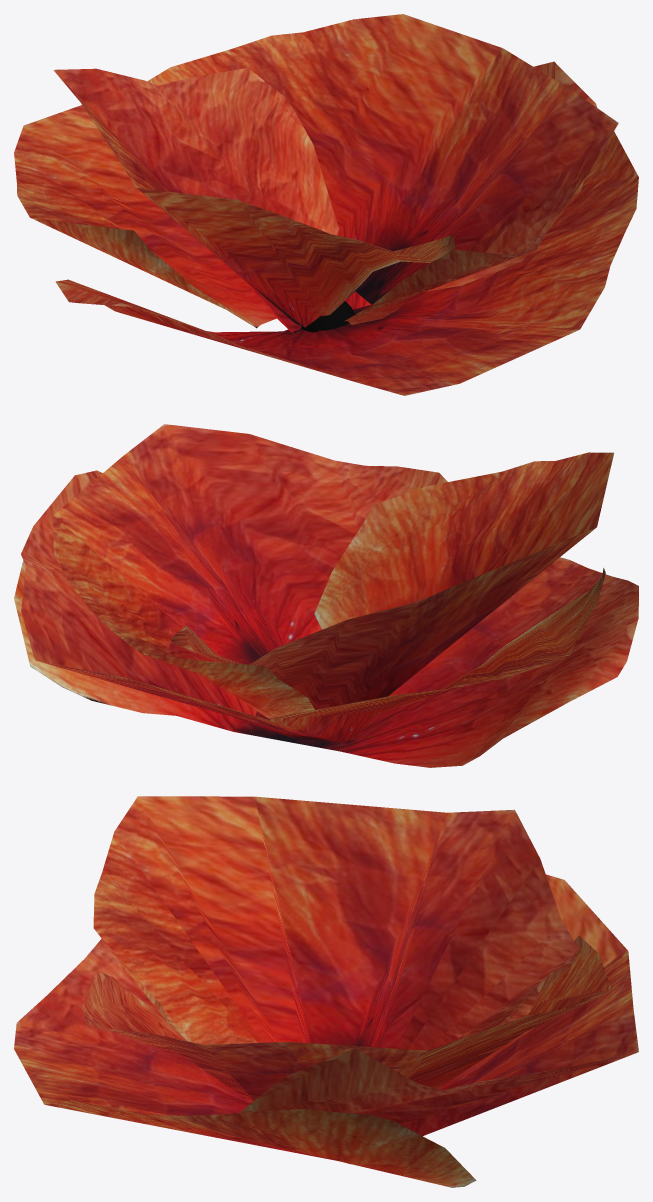
The picture shows the model from 3 angles, top to bottom: view 1: azimuth 30°, elevation 25°; view 2: azimuth 150°, elevation 25°; view 3: azimuth 270°, elevation 25°; orthographic projection.
Parts seen in each view (by area): view 1: Petal.002_3, Petal.003_4, Petal.001_2, Petal_0, Pistil_1; view 2: Petal.002_3, Petal.003_4, Petal.001_2, Petal_0; view 3: Petal.003_4, Petal.001_2, Petal_0, Petal.002_3.
Boxes of the visible parts, <box> form: Petal.002_3: <box>147,14,618,324</box>; Petal.003_4: <box>53,68,455,327</box>; Petal.001_2: <box>55,131,638,395</box>; Petal_0: <box>14,61,597,335</box>; Pistil_1: <box>301,301,355,332</box>; Petal.002_3: <box>53,424,447,718</box>; Petal.003_4: <box>171,452,613,709</box>; Petal.001_2: <box>14,557,638,767</box>; Petal_0: <box>21,470,605,743</box>; Petal.003_4: <box>93,796,578,1050</box>; Petal.001_2: <box>14,938,476,1187</box>; Petal_0: <box>240,874,638,1164</box>; Petal.002_3: <box>82,935,611,1102</box>.
Bounding box in the file's own units: 4.37 × 2.02 × 4.39.
Materials: 2 (1 with a texture image).
